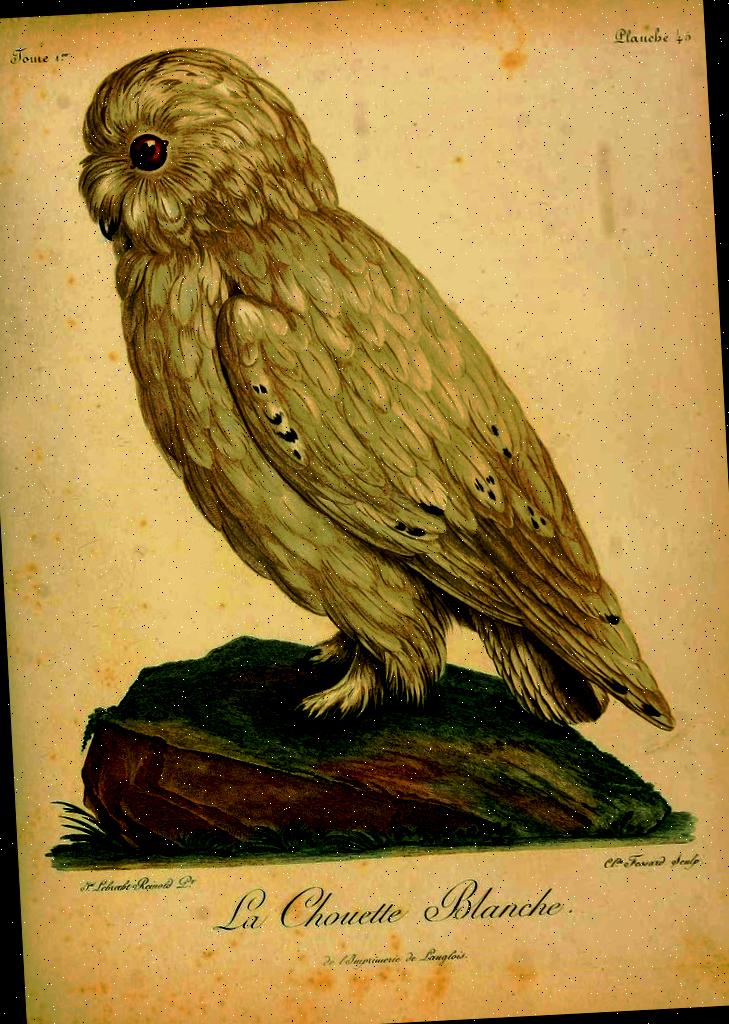Owl: (63, 19, 676, 748)
